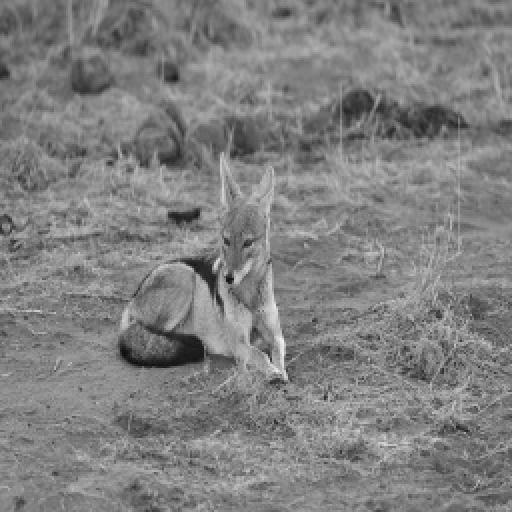zorro: (118, 154, 286, 380)
